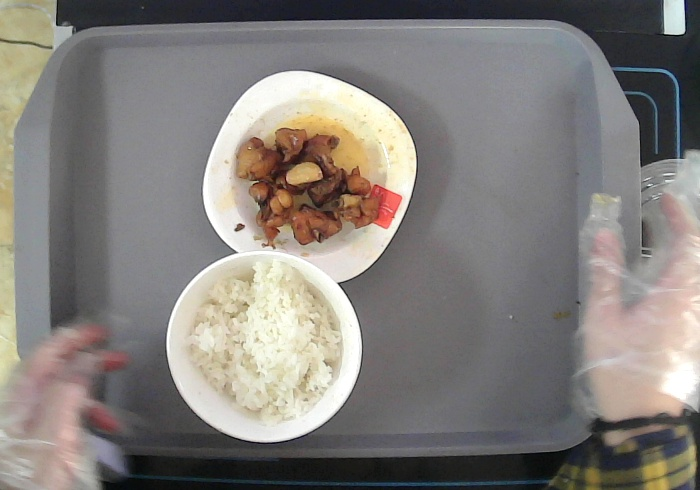SHKJ-Bai_Se_Si_Fang_Cai_Die: (203, 69, 418, 269)
SHKJ-Fan_Wan: (166, 250, 364, 442)
